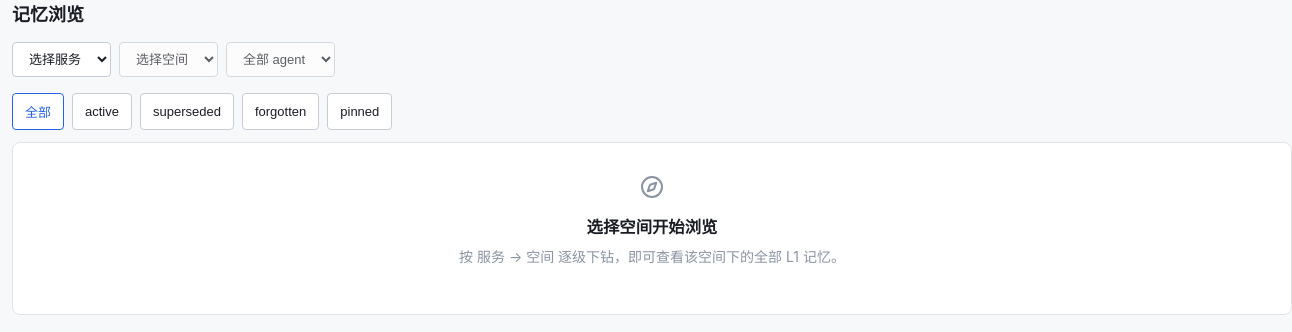
Test: memories page (M3-05) › drills service → space and lists facts with badges
Select "work" in the dropdown named "service": {"x": 62, "y": 60} [12,42,111,77]
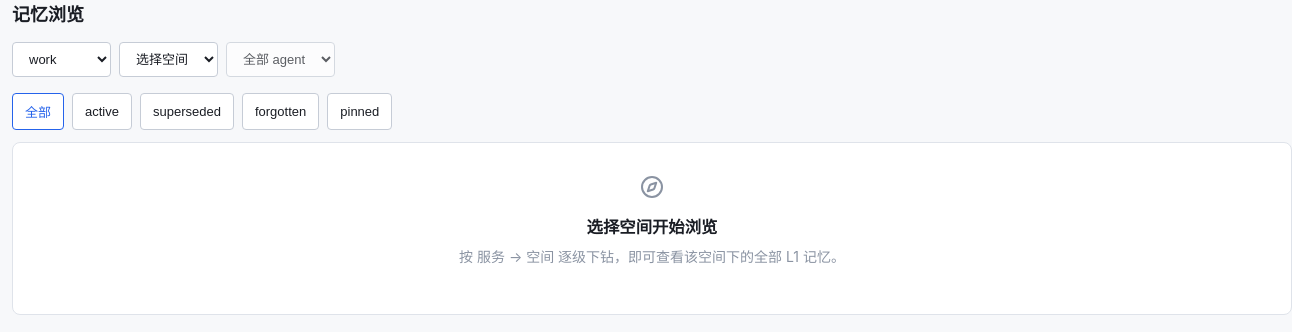
Select "default" in the dropdown named "space": {"x": 168, "y": 60} [119,42,218,77]
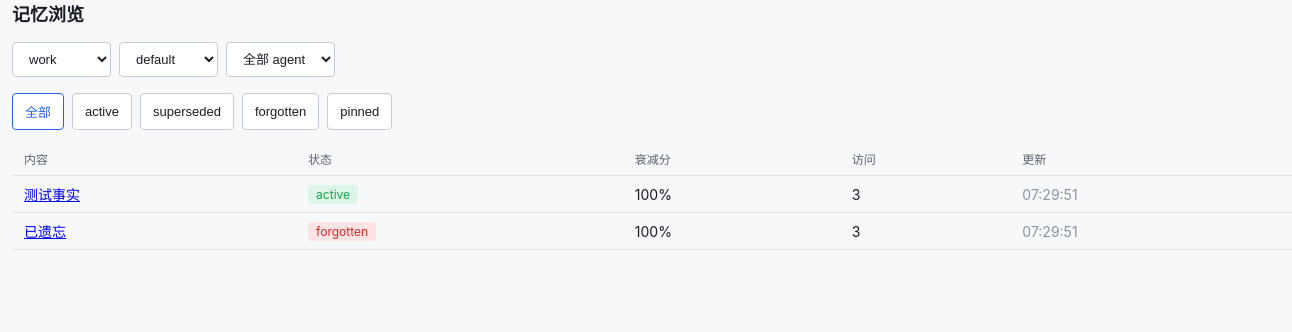
Expected: the table with test id "memory-table" is shown, [12,142,1291,250]
Expected: the link "测试事实" is shown, [24,186,80,203]
